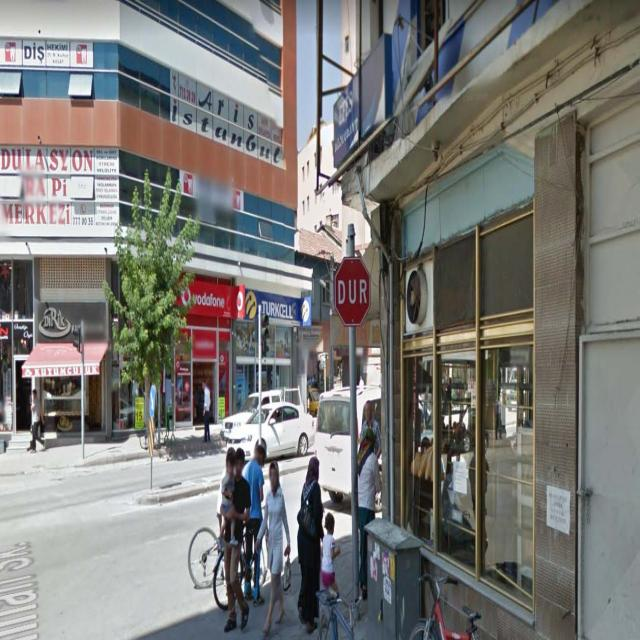dur: (335, 258, 369, 321)
